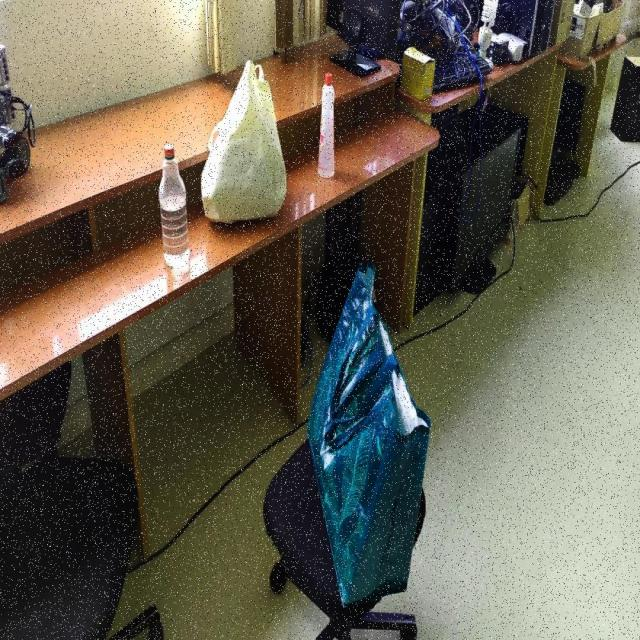Bag: (307, 255, 433, 610), (201, 61, 287, 222)
